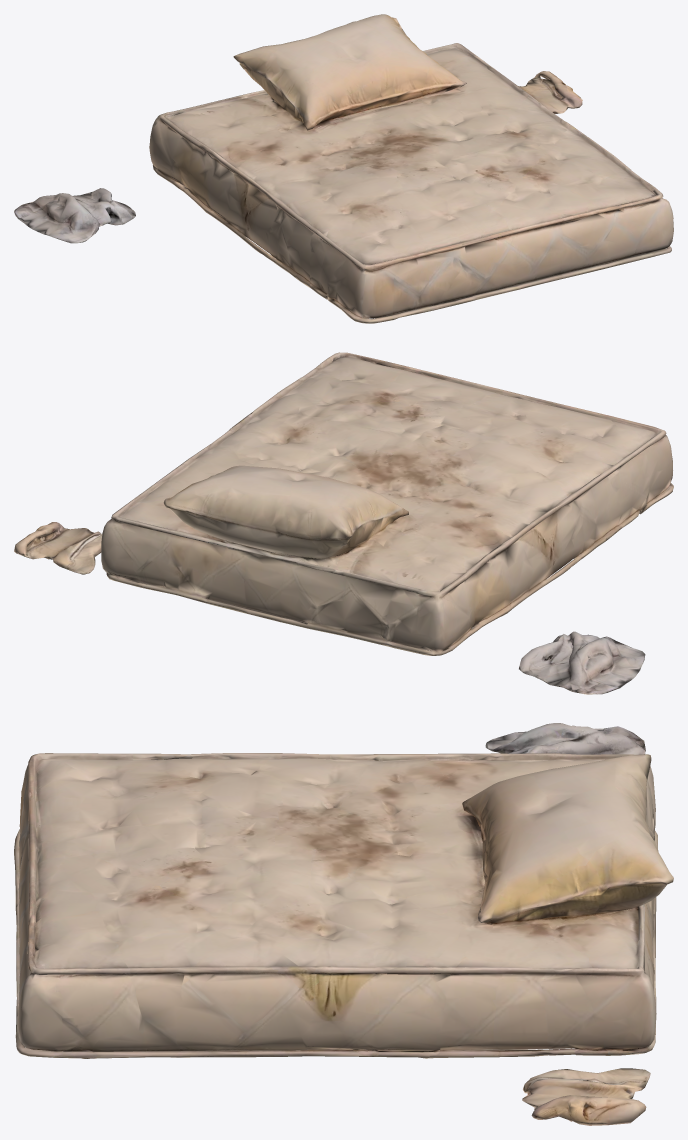
File: dirtymatress.glb
3 views of the same model, one above another, from view 1: azimuth 30°, elevation 25°; view 2: azimuth 150°, elevation 25°; view 3: azimuth 270°, elevation 25° (orthographic). The views are drawn at different scales.
Parts seen in each view (by area): view 1: Mesh_0; view 2: Mesh_0; view 3: Mesh_0.
Part boxes in pixels (box(x1,y1,x2,y2)): Mesh_0: box(14, 14, 673, 323); Mesh_0: box(14, 352, 673, 694); Mesh_0: box(14, 723, 673, 1125).
Bounding box in the file's own units: 1.51 × 0.2992 × 1.07.
1 material, 1 textured.
